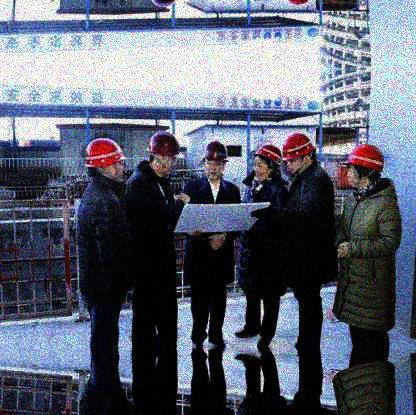helmet: (85, 138, 127, 184), (343, 145, 386, 188), (146, 133, 181, 177), (283, 134, 316, 176), (252, 145, 285, 182), (206, 142, 229, 181)
